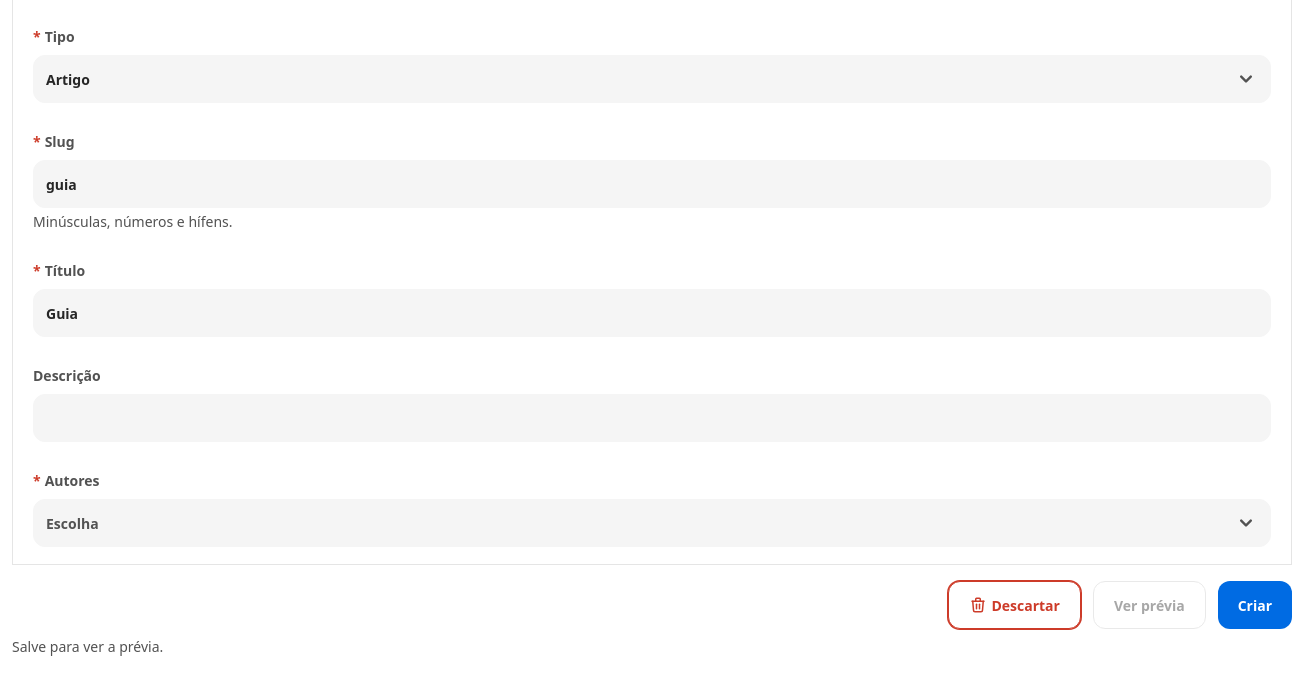
Test: editor de conteúdo › sem blocos: o erro da lista é a mensagem do FormItem, ligada à seção Blocos (#329)
The image size is (1304, 673).
Click the button "Criar" at (1255, 605), box [1218,581,1292,629]
(page scrolled)
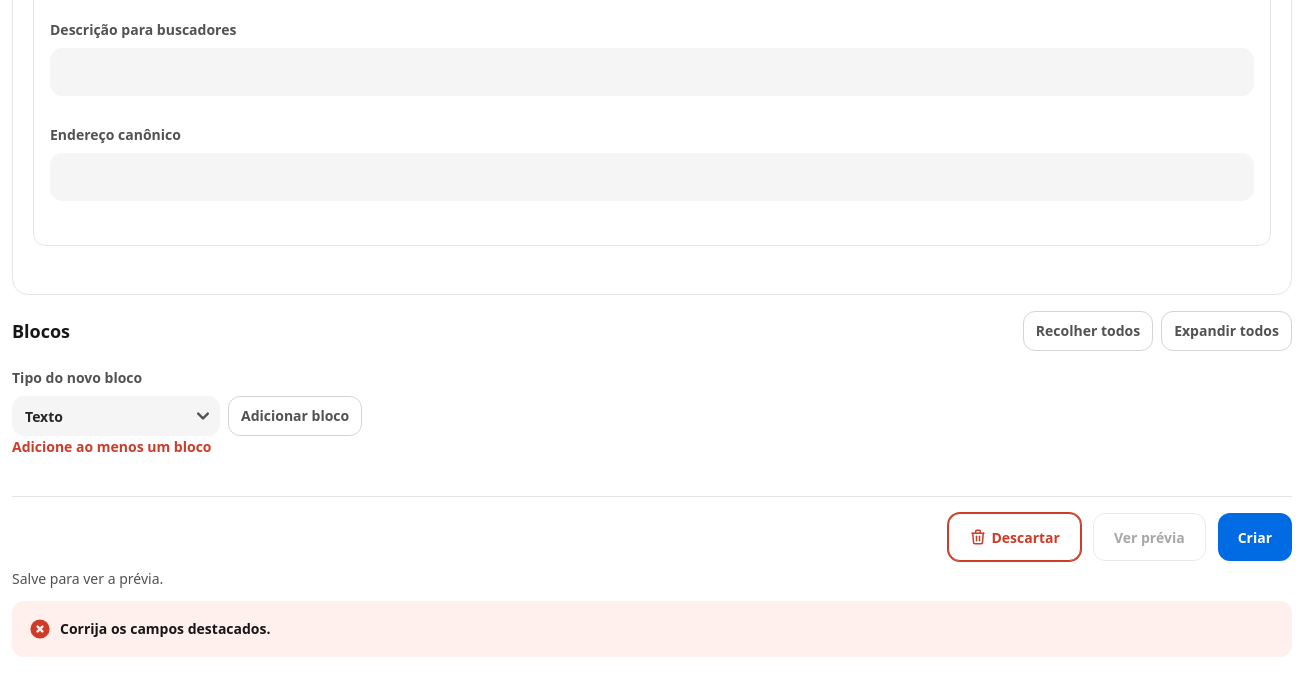
Expected: the text "Adicione ao menos um bloco" is shown, [12,436,212,457]
